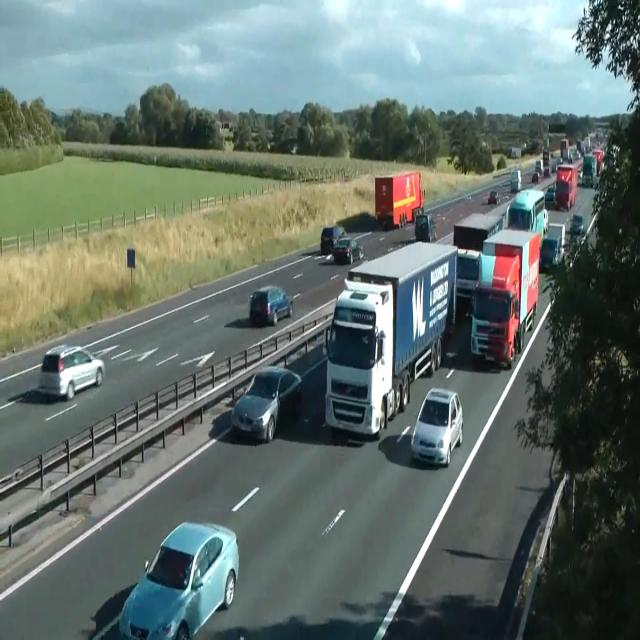bus: (118, 520, 240, 639), (230, 365, 302, 443), (411, 387, 463, 468), (39, 344, 104, 401), (249, 284, 293, 326), (332, 236, 364, 264), (570, 213, 584, 235), (545, 184, 555, 203), (488, 190, 500, 204), (542, 208, 548, 233), (543, 164, 550, 176), (290, 146, 298, 154), (532, 172, 538, 182)
jeep: (320, 225, 345, 253)
minibus: (323, 240, 458, 438), (470, 228, 540, 369), (374, 171, 424, 230), (504, 188, 548, 246), (453, 210, 504, 252), (453, 247, 481, 322), (540, 222, 564, 271), (554, 163, 578, 210), (581, 148, 604, 188), (414, 212, 436, 242), (592, 148, 604, 176), (576, 134, 591, 156), (510, 169, 522, 191), (560, 138, 570, 162), (507, 146, 521, 158)
